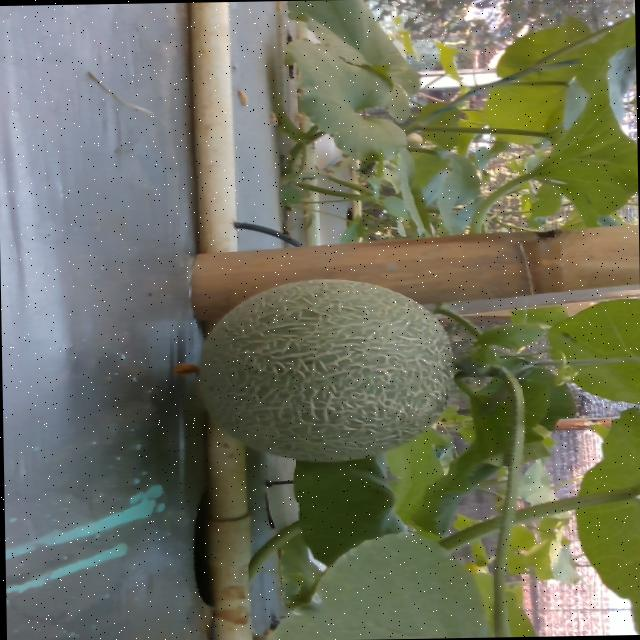melon: (199, 280, 452, 462)
